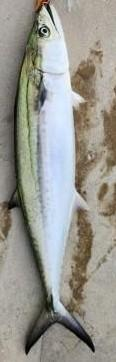fish: (13, 0, 93, 350)
